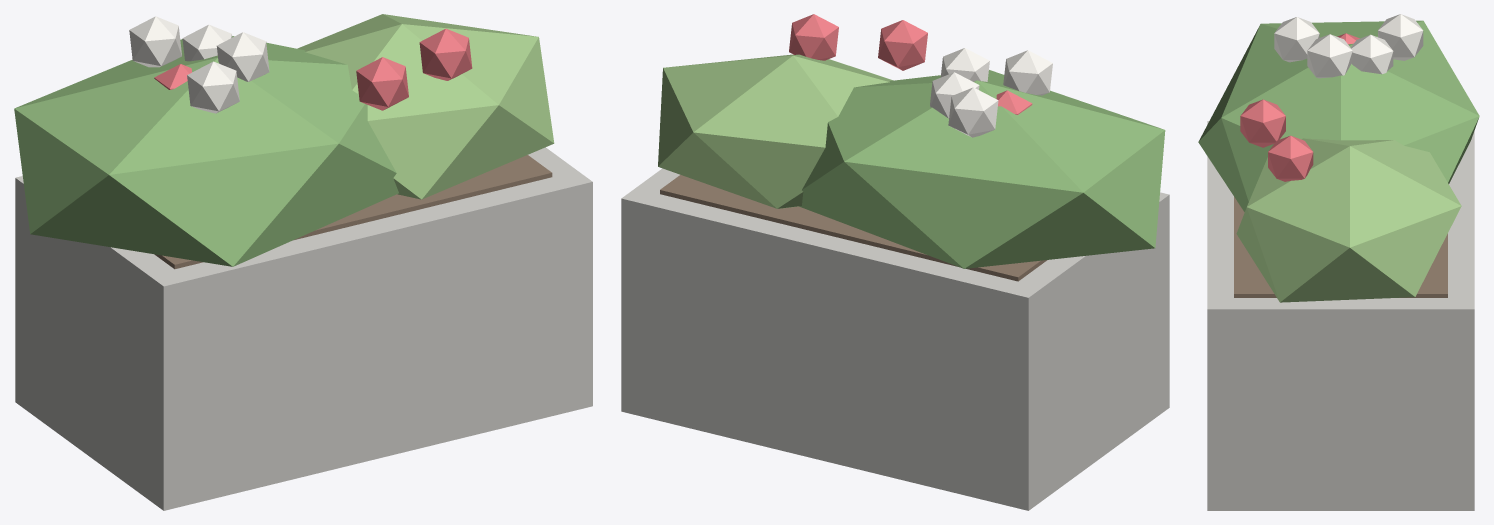
File: planter.glb
The picture shows the model from 3 angles, left to right: view 1: azimuth 30°, elevation 25°; view 2: azimuth 150°, elevation 25°; view 3: azimuth 270°, elevation 25°; orthographic projection. The views are drawn at different scales.
Visible parts, largest first — view 1: planter; view 2: planter; view 3: planter.
Boxes of the visible parts, left/top/right/bottom form: planter: left=14, top=14, right=592, bottom=510; planter: left=621, top=14, right=1169, bottom=510; planter: left=1198, top=14, right=1479, bottom=510.
Bounding box in the file's own units: 1.2 × 0.8754 × 0.6319.
